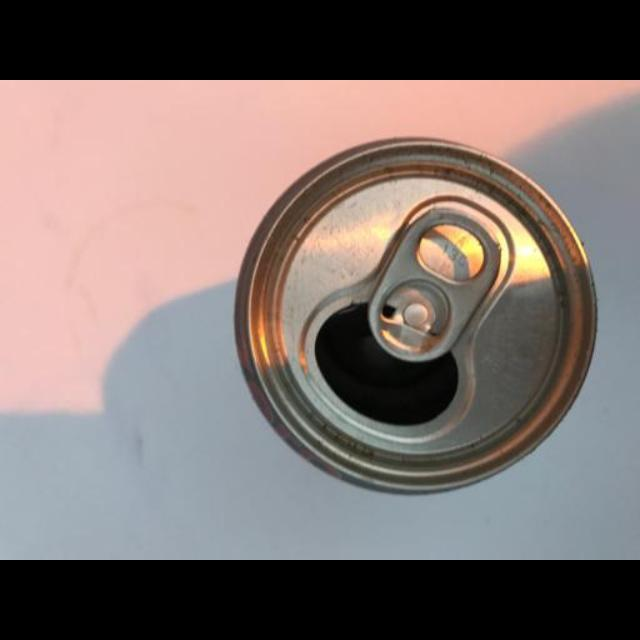aba de lata: (366, 206, 504, 364)
lata: (237, 136, 601, 496)
